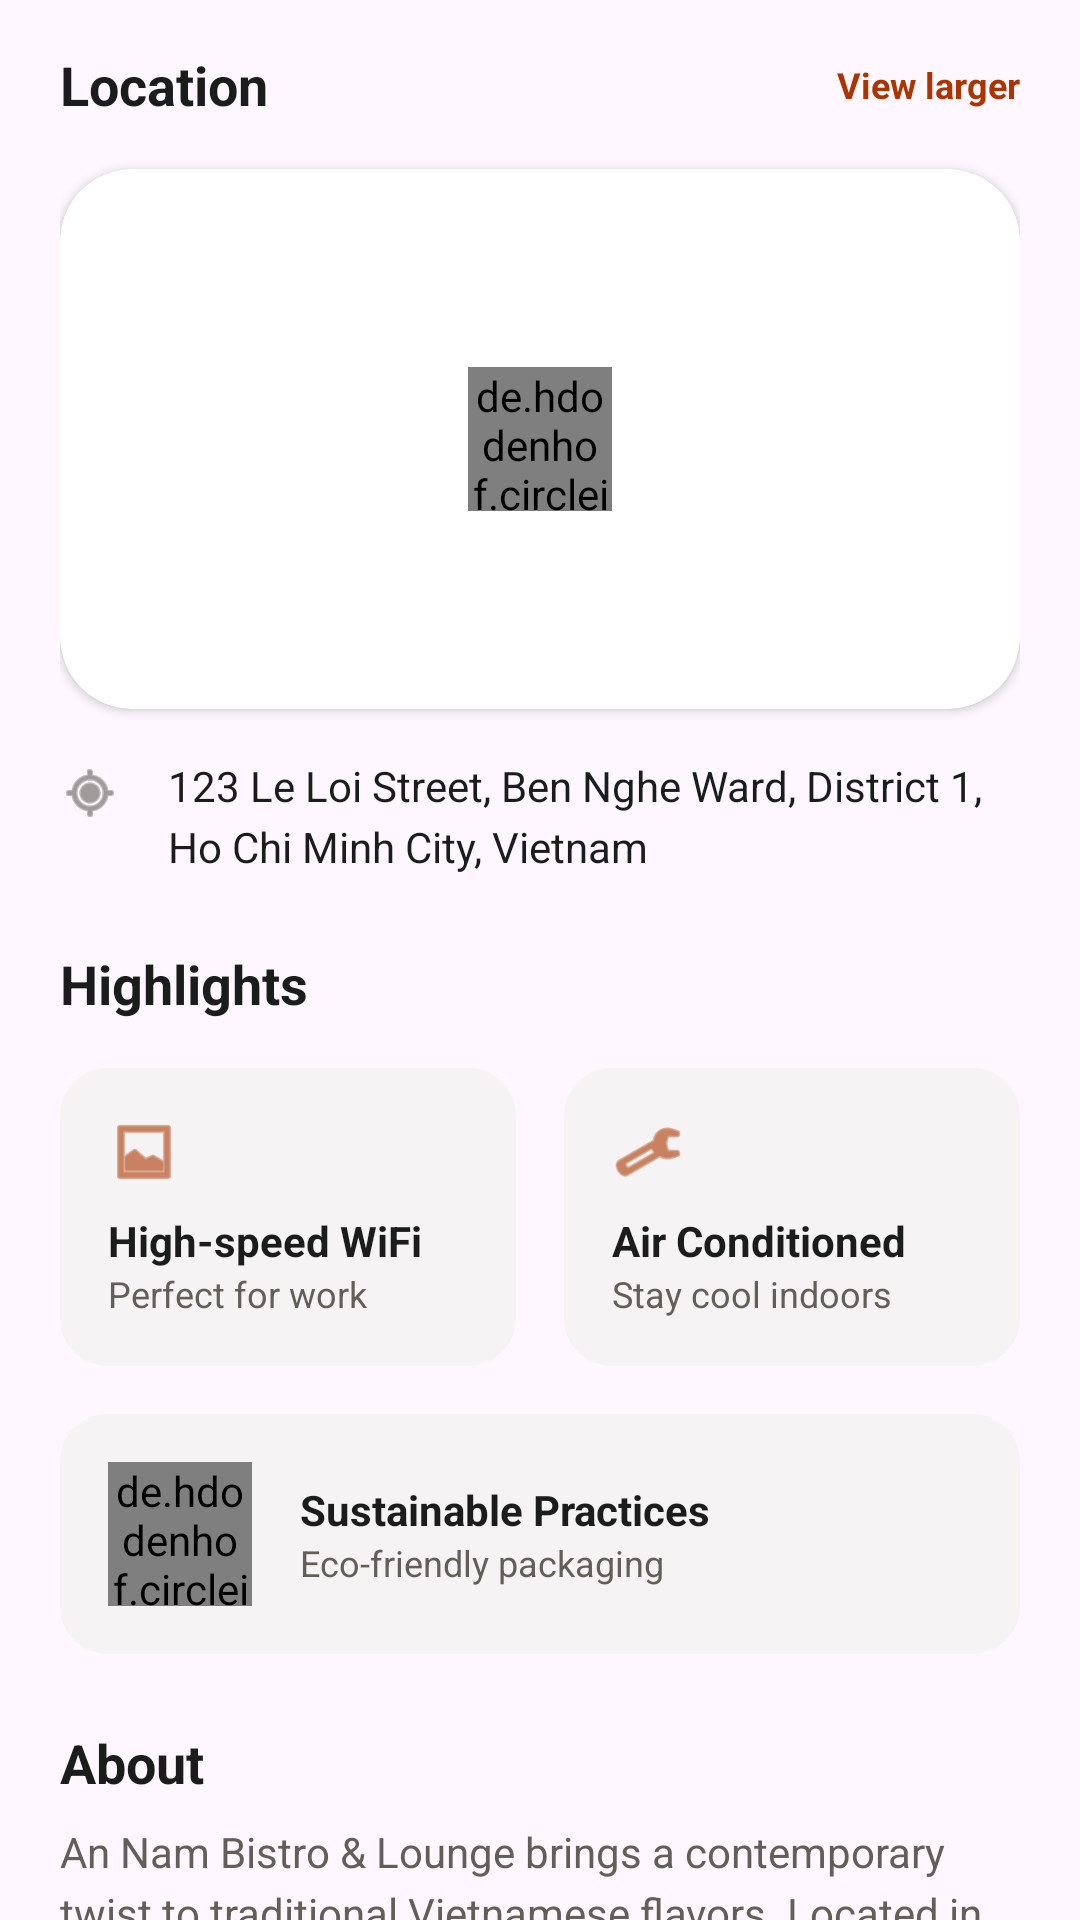

Where to tap for icons on this 1080px x 1920px app screen, as (x=x, y=y):
gallery: (x=144, y=1152)
manage: (x=647, y=1152)
mylocation: (x=90, y=793)
